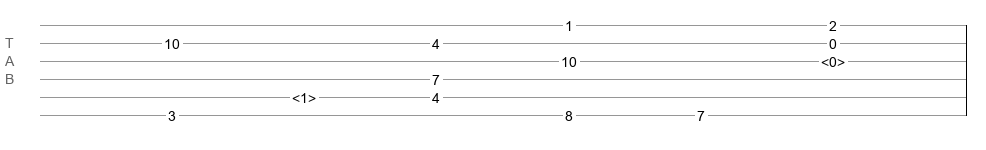0: (829, 36, 837, 46)
1: (565, 18, 573, 28)
10: (164, 36, 180, 46), (561, 54, 577, 64)
2: (829, 18, 837, 28)
3: (168, 108, 176, 118)
4: (432, 36, 440, 46), (432, 90, 440, 100)
7: (432, 72, 440, 82), (697, 108, 705, 118)
8: (565, 108, 573, 118)
harmonic: (292, 90, 316, 100), (821, 54, 845, 64)
